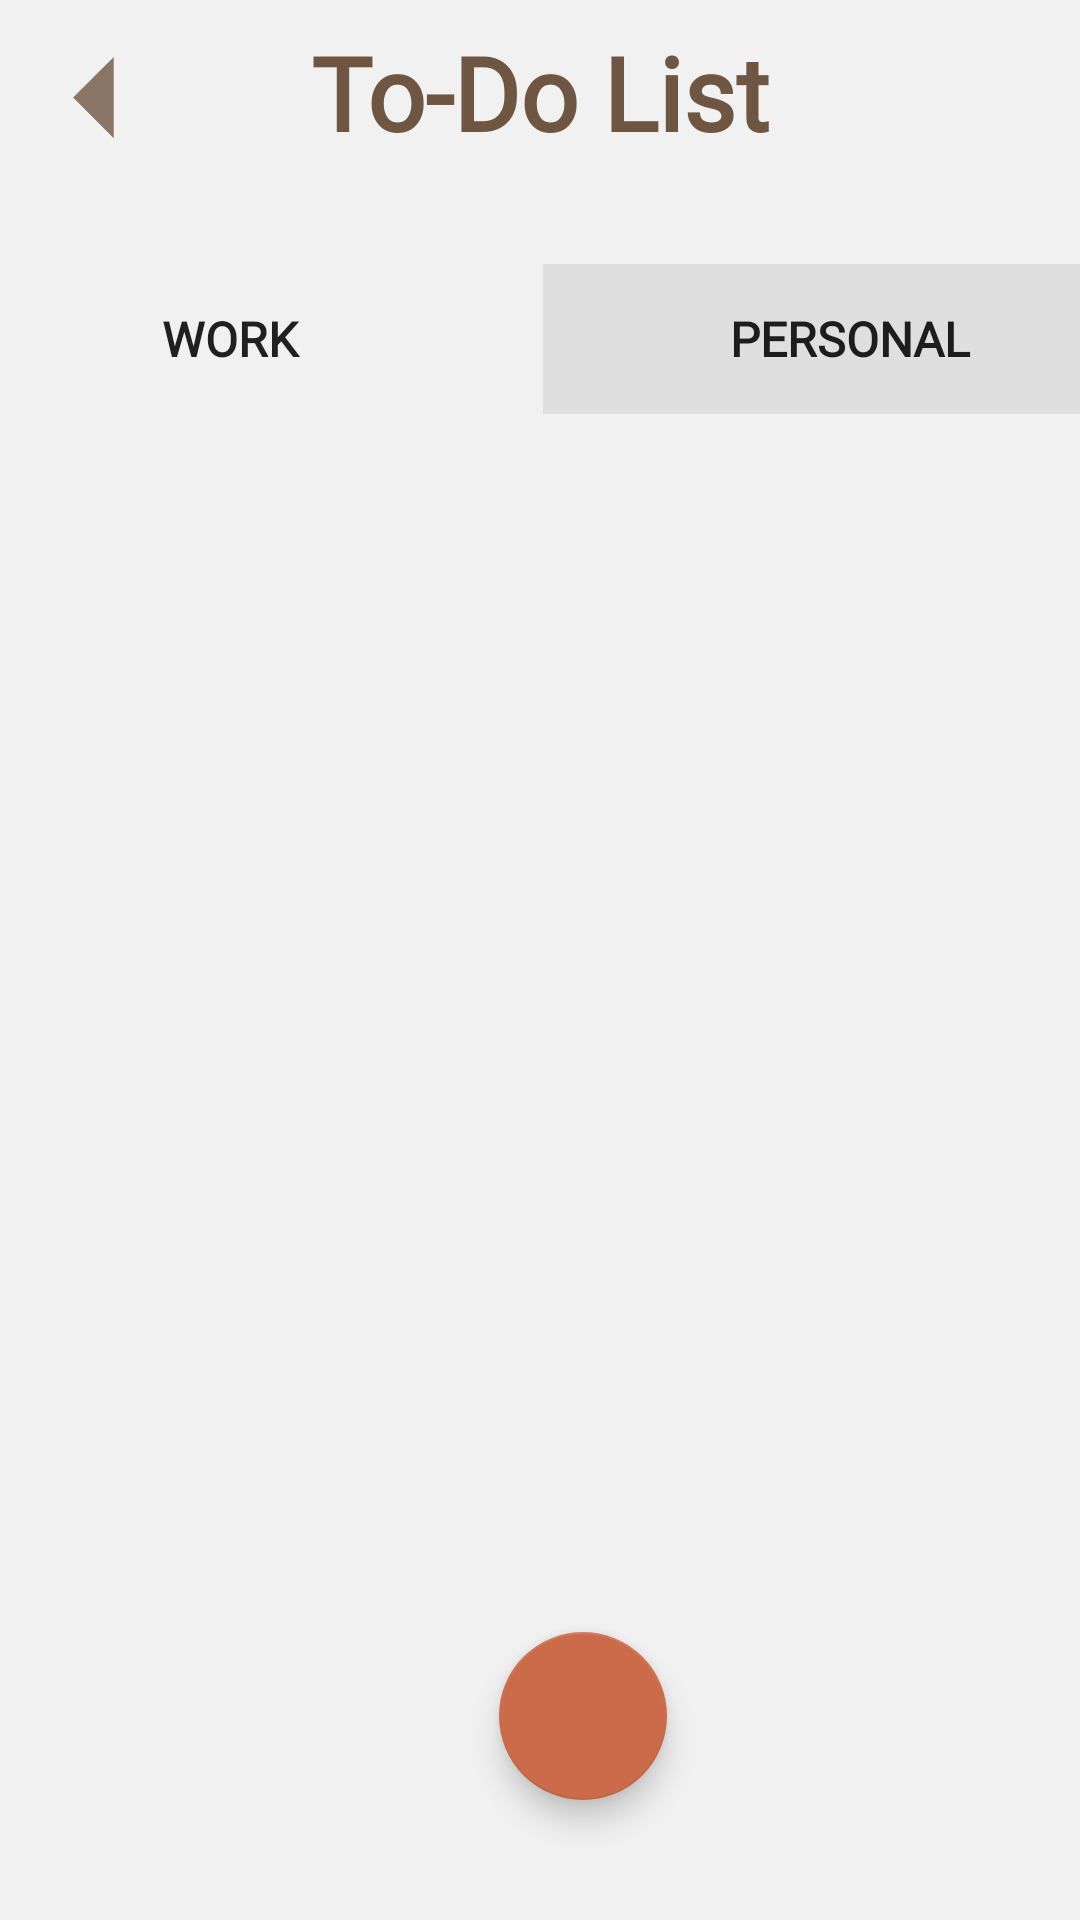

Named icons in this screenshot (1080*1920) and their bounding boxes, [x1=x1, y1=y1, x2=x2, y2=y2]:
back: [x1=73, y1=57, x2=114, y2=138]
